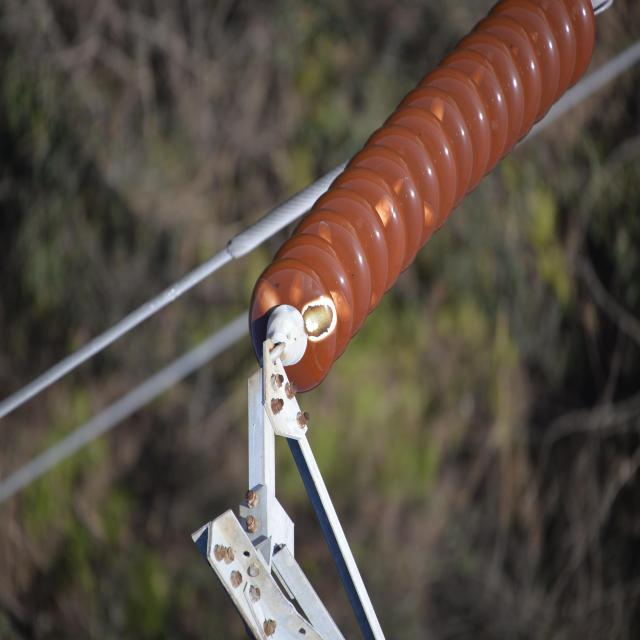insulator: (248, 0, 596, 391)
